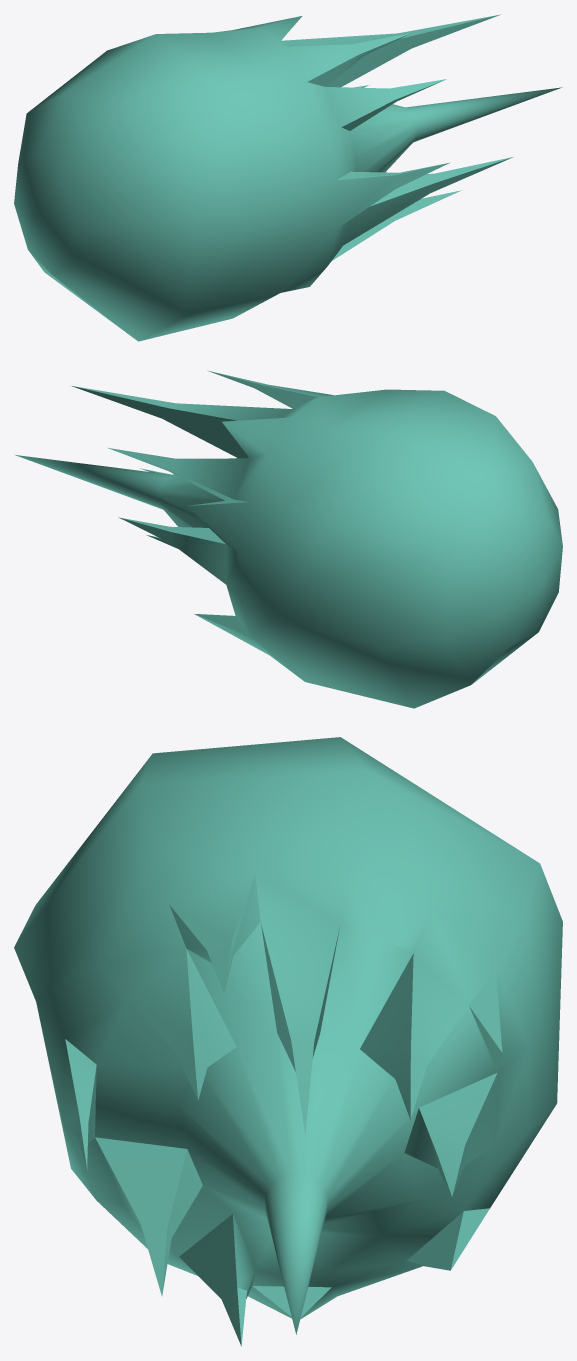
File: iceball.FBX
3 renders of one model, top to bottom at view 1: azimuth 30°, elevation 25°; view 2: azimuth 150°, elevation 25°; view 3: azimuth 270°, elevation 25°, orthographic. The views are drawn at different scales.
Visible parts, largest first — view 1: iceball; view 2: iceball; view 3: iceball.
Part boxes in pixels (bbox=[...]): iceball: bbox=[14, 14, 562, 341]; iceball: bbox=[15, 370, 562, 708]; iceball: bbox=[14, 737, 562, 1346].
Size of the model in its own units: 110 by 53.15 by 56.39.
